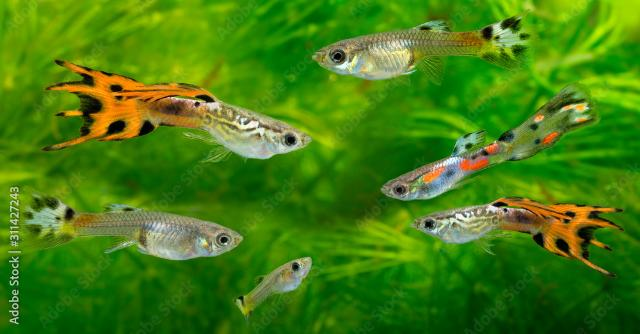Mulut: (295, 42, 331, 76), (288, 126, 324, 154), (298, 246, 322, 274), (229, 226, 253, 250), (372, 174, 392, 202), (404, 214, 426, 238)
Sirip Anal: (416, 44, 452, 92), (95, 232, 141, 264), (178, 124, 226, 148), (486, 223, 522, 245)
Sirip Ekor: (22, 48, 146, 160), (491, 73, 609, 175), (524, 196, 634, 284), (0, 170, 88, 266), (461, 0, 552, 84)
Sirip Perut: (192, 144, 236, 170), (438, 170, 476, 197), (468, 231, 498, 261), (380, 69, 412, 91)
Sirip Punggung: (111, 80, 225, 106), (480, 190, 562, 221), (439, 119, 495, 161), (404, 14, 461, 46), (96, 196, 144, 218)
